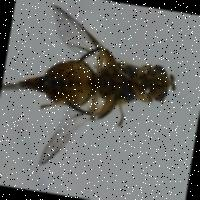Oriental-fruit-fly: (5, 0, 187, 182)
